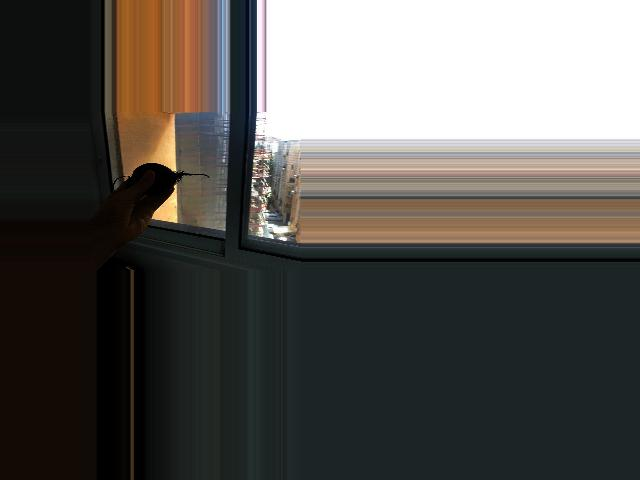beet: (113, 163, 210, 205)
